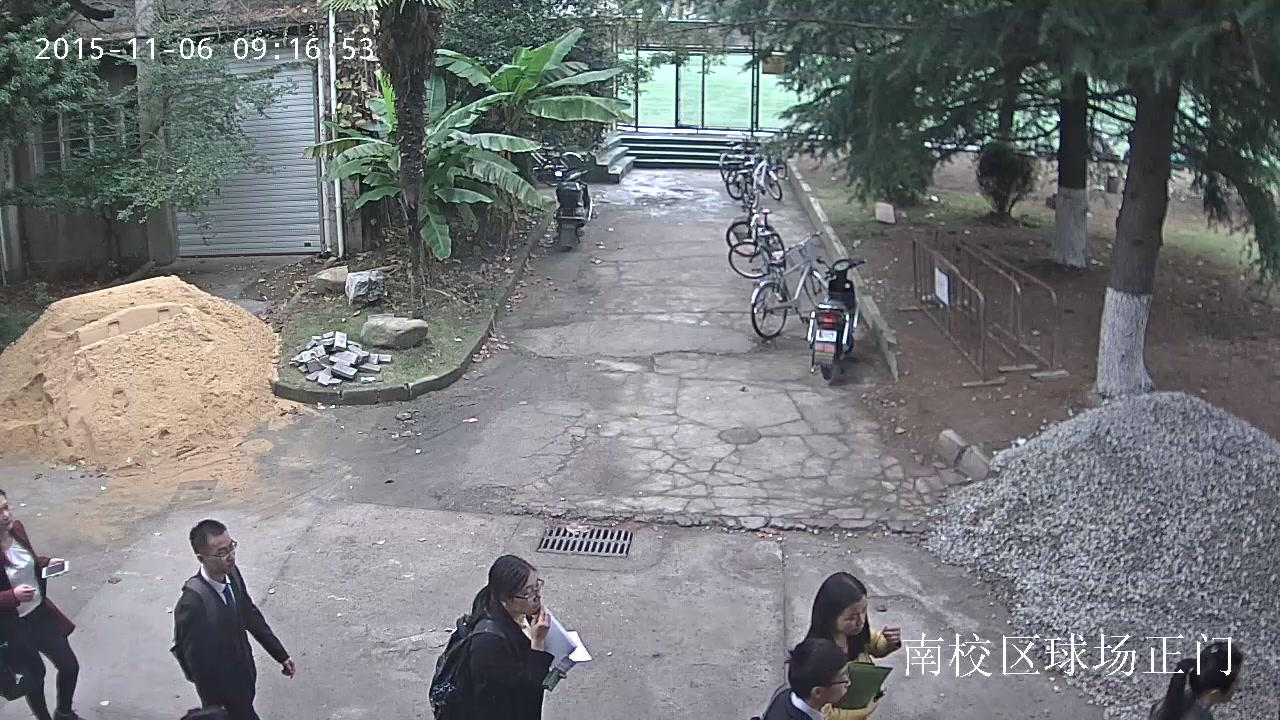face: (204, 532, 235, 572), (824, 660, 850, 703), (839, 596, 866, 633), (515, 573, 539, 612), (1221, 665, 1241, 702), (0, 493, 13, 530)
